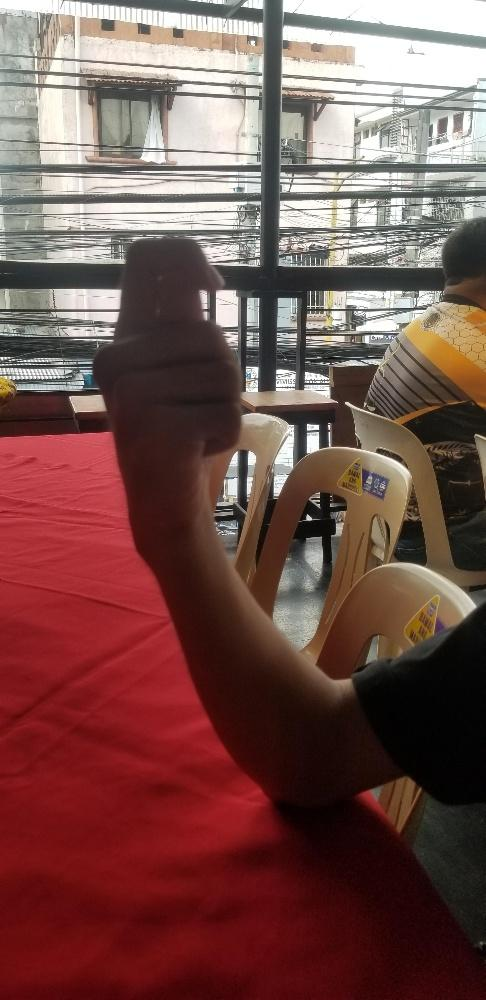t: (89, 229, 246, 554)
